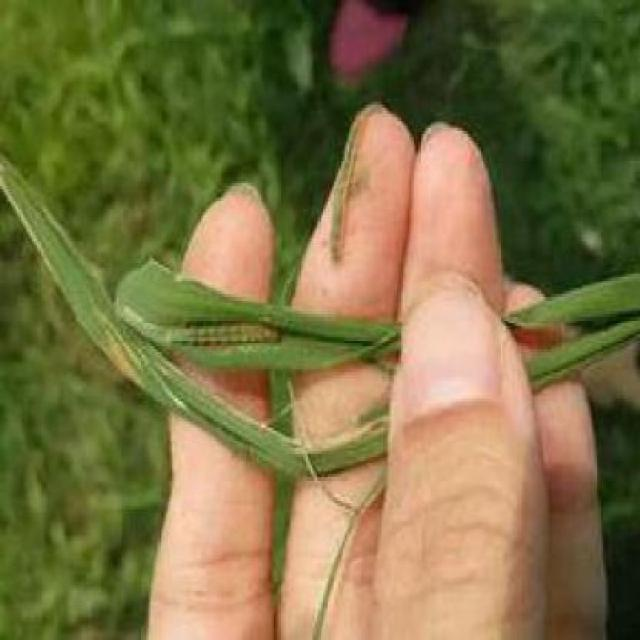leaf-folder: (318, 98, 397, 256), (145, 299, 312, 363)
